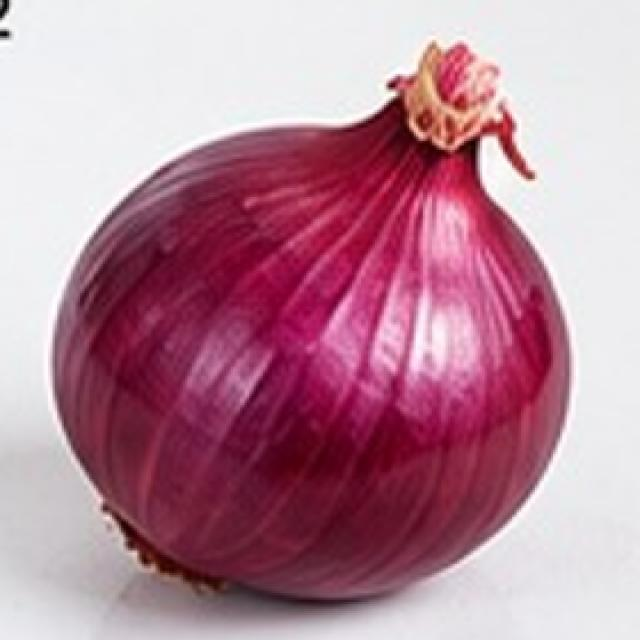healthy: (51, 0, 594, 632), (53, 45, 567, 597), (53, 45, 567, 595)
